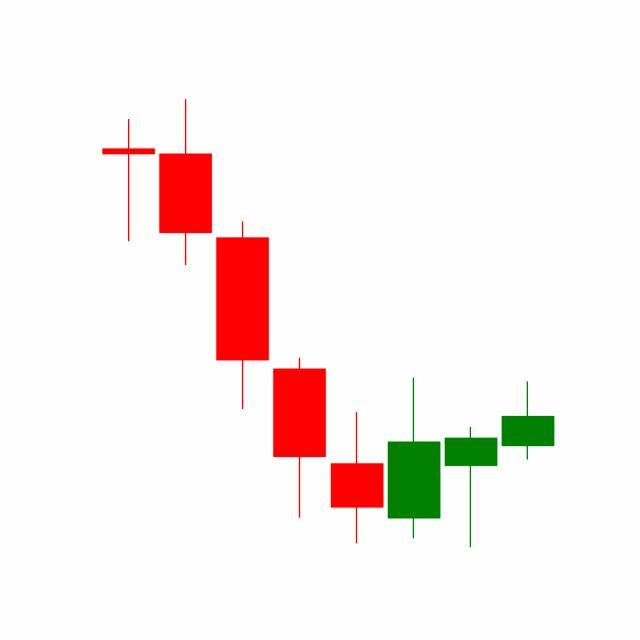Three Outside Up-Down: (328, 375, 500, 548)
